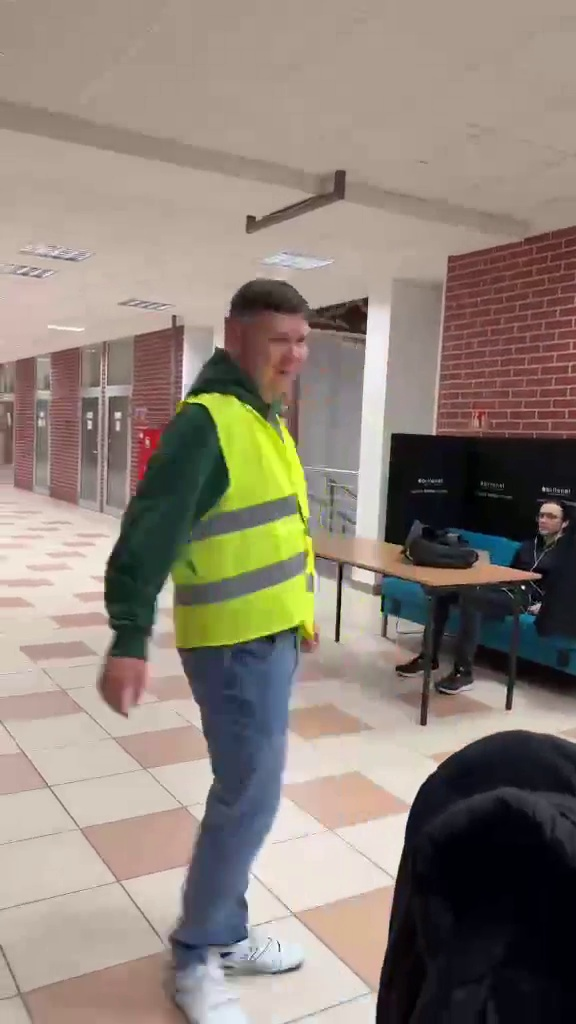no vest: (423, 475, 568, 705)
vest: (110, 259, 338, 1016)
